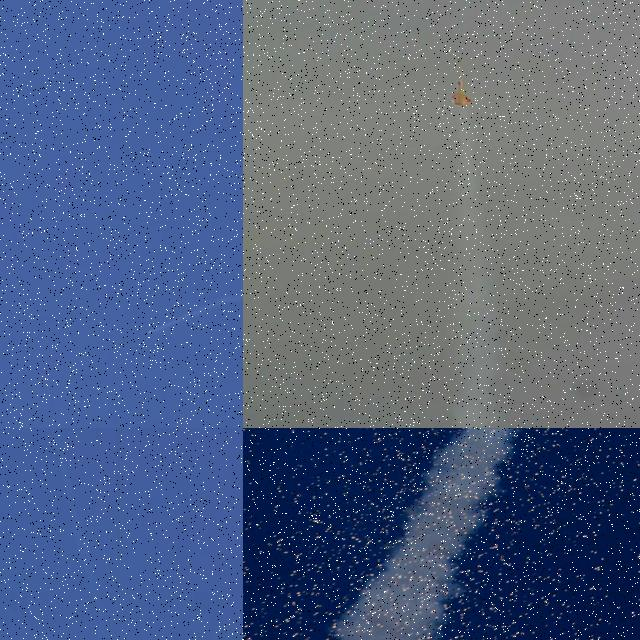Rocket: (449, 57, 473, 108), (148, 332, 150, 334)
